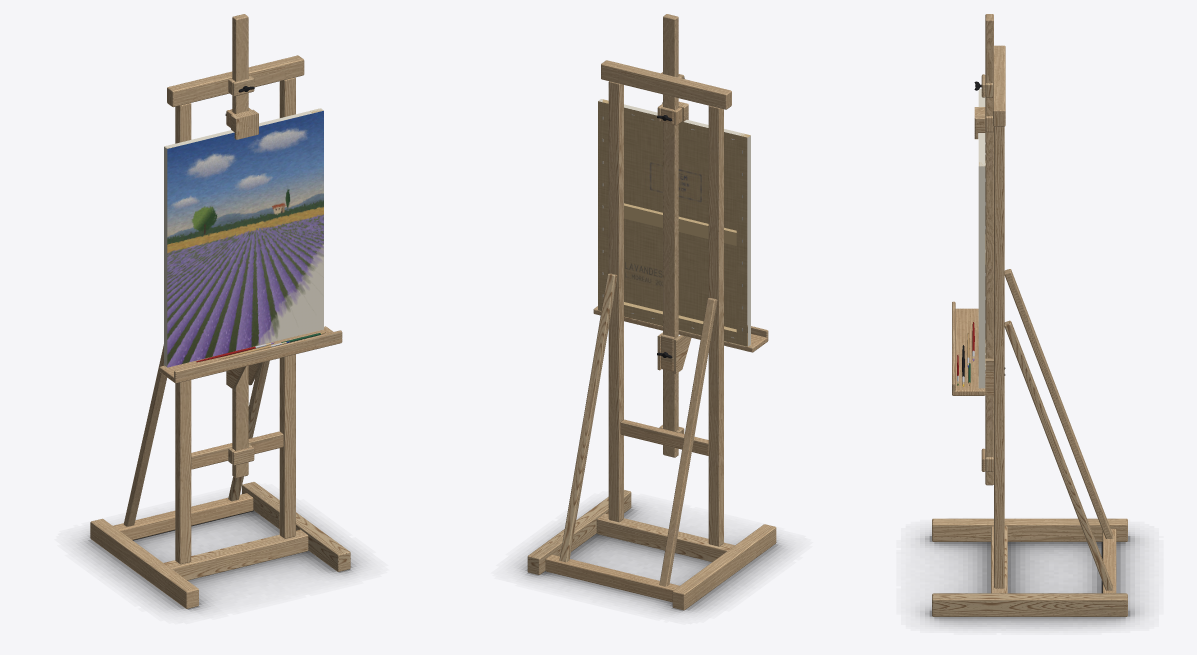
File: easel.glb
The picture shows the model from 3 angles, left to right: view 1: azimuth 30°, elevation 25°; view 2: azimuth 150°, elevation 25°; view 3: azimuth 270°, elevation 25°; orthographic projection. The views are drawn at different scales.
Visible parts, largest first — view 1: easel_LOD0, easel_Shadow; view 2: easel_LOD0, easel_Shadow; view 3: easel_LOD0, easel_Shadow.
Boxes of the visible parts, x1,y1,x2,y2 form: easel_LOD0: [90, 14, 350, 608]; easel_Shadow: [79, 510, 362, 611]; easel_LOD0: [527, 14, 776, 610]; easel_Shadow: [517, 503, 787, 613]; easel_LOD0: [932, 14, 1127, 616]; easel_Shadow: [920, 532, 1139, 626].
Size of what is drawn, in the model's own units: 1 by 2.02 by 1.
3 materials, 3 textured.
